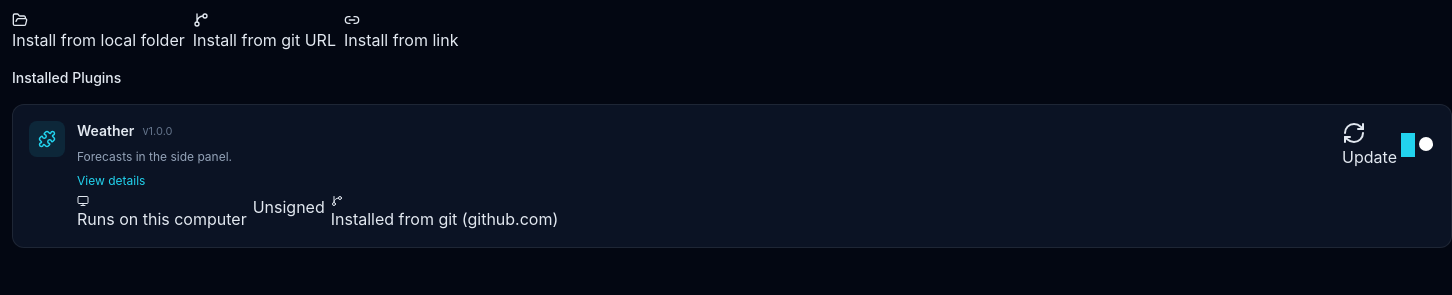
Test case: PluginSettingsPage — updating a plugin › says when the plugin is already up to date
This screenshot has width=1452, height=295.
Click the button "Update": (1370, 145) [1342,121,1397,169]
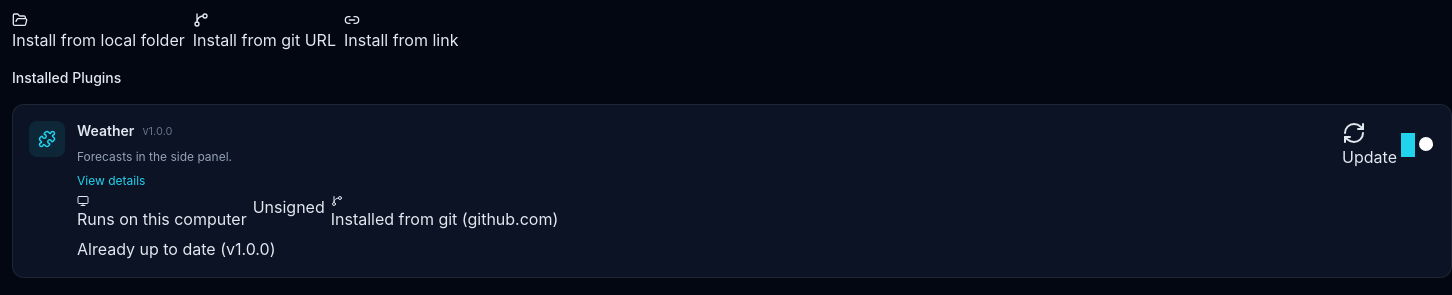
Check: the text "Already up to date (v1.0.0)" is shown, box [77,238,276,258]
